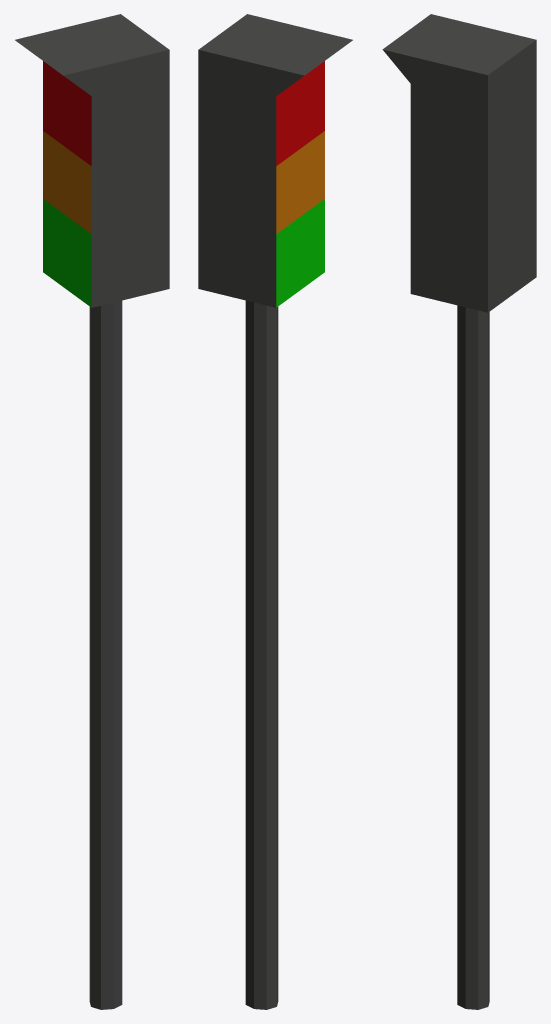
The model's file is crosslight.fbx.
3 views of the same model, side by side, from view 1: azimuth 30°, elevation 25°; view 2: azimuth 150°, elevation 25°; view 3: azimuth 330°, elevation 25° (orthographic).
Visible parts, largest first — view 1: Cube; view 2: Cube; view 3: Cube.
Boxes of the visible parts, x1=… form: Cube: x1=15, y1=14, x2=169, y2=1009; Cube: x1=198, y1=14, x2=352, y2=1009; Cube: x1=382, y1=14, x2=536, y2=1009.
Bounding box in the file's own units: 0.4625 × 4 × 0.3682.
